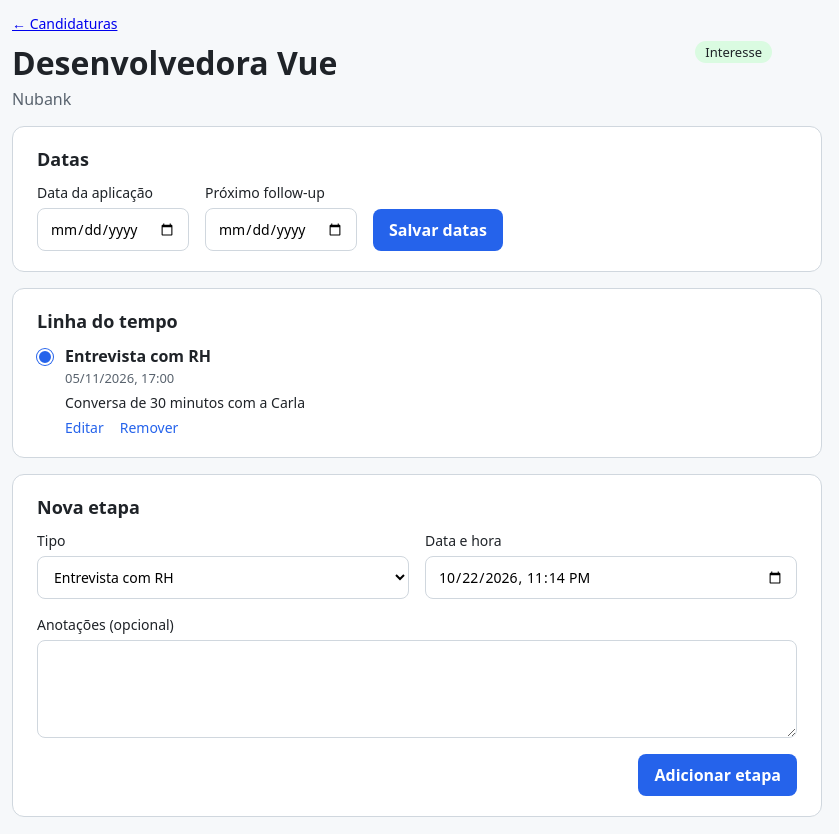
Test: CandidaturaView › editar etapa › cancelar descarta a edição
What coordinates should you click on to do the following:
click the button with test id "editar"
I would click on:
 (84, 428)
Its box is [65,418,104,437].
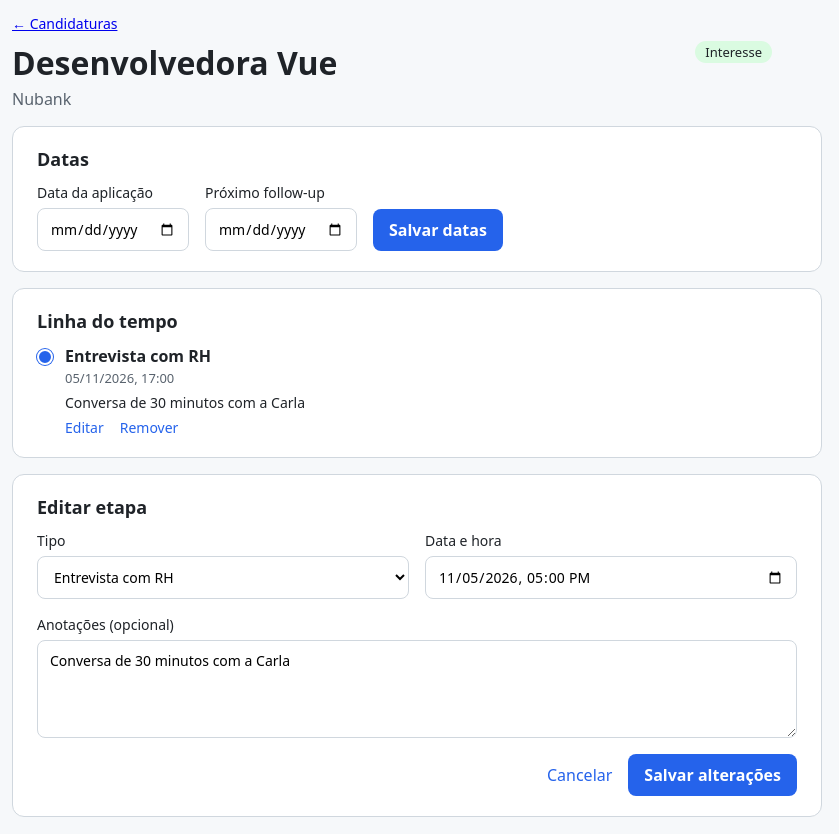
What coordinates should you click on to do the following:
click the button with test id "cancelar"
I would click on:
 (580, 775)
Its box is [547,764,612,786].
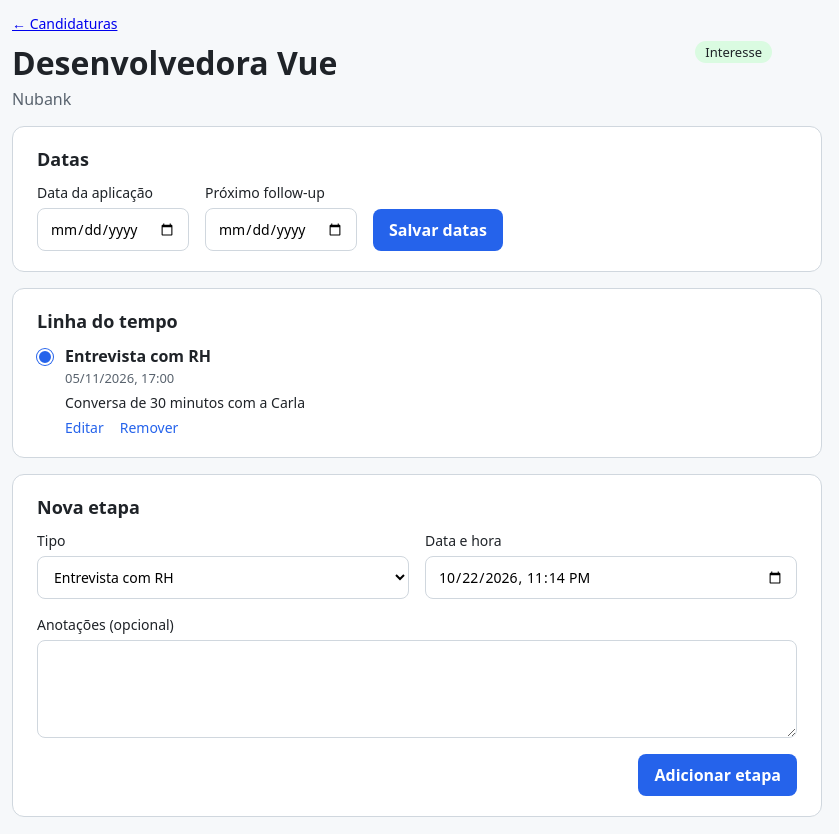
Expected: the text box with test id "anotacoes" is empty, [37,640,797,738]
